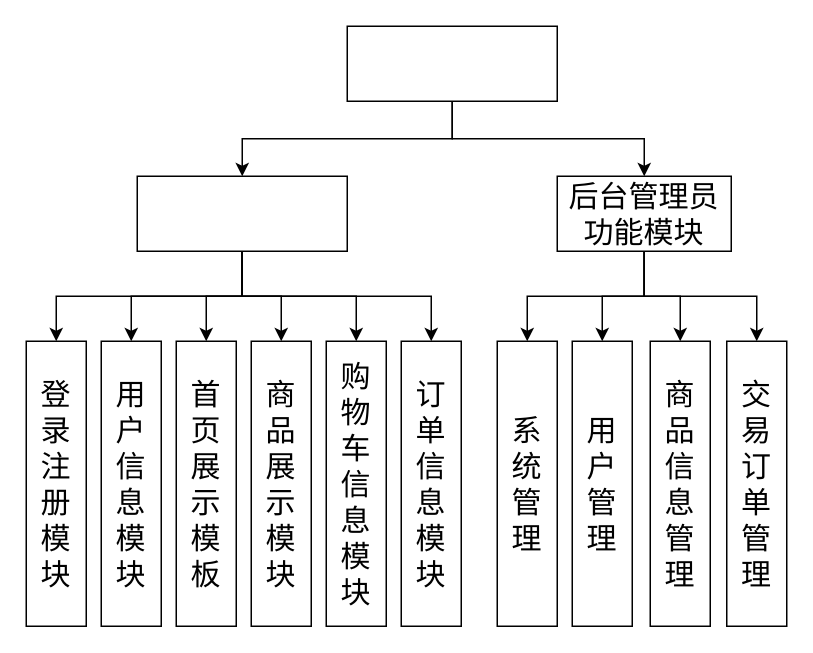
Image size: 813x653. Some labels were removed from this diagram. The shapes that lost their labels are listed below. From the top down, each one's box as (x1, y1, x2, y2) in pixels, then its label:
(346, 25, 557, 101): 时间书城
(136, 175, 347, 251): 前台个人用户功能模板
